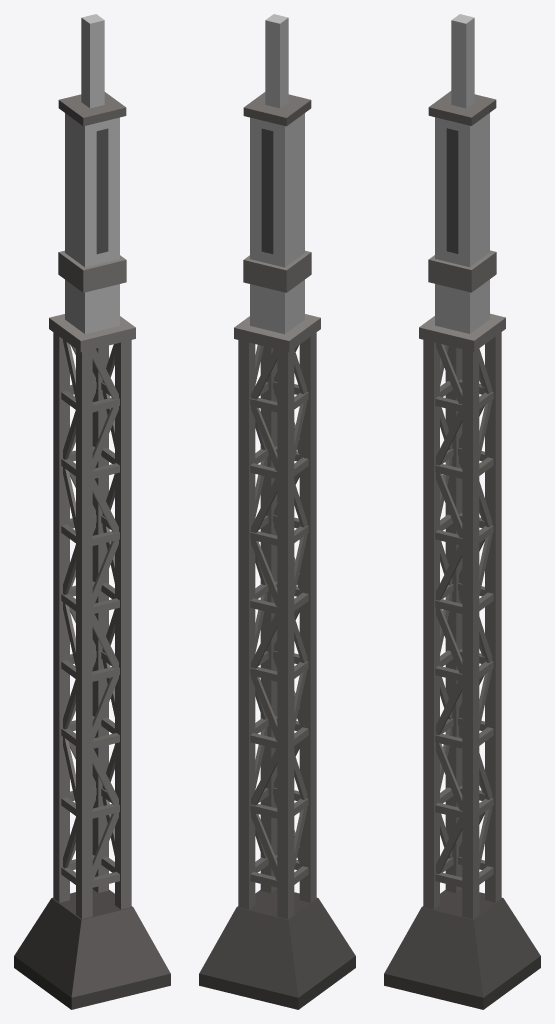
The model's file is SM_Bld_RadioTower_01.fbx.
The picture shows the model from 3 angles, left to right: view 1: azimuth 30°, elevation 25°; view 2: azimuth 150°, elevation 25°; view 3: azimuth 330°, elevation 25°; orthographic projection.
Visible parts, largest first — view 1: SM_Bld_RadioTower_01; view 2: SM_Bld_RadioTower_01; view 3: SM_Bld_RadioTower_01.
Boxes of the visible parts, <box> form: SM_Bld_RadioTower_01: <box>14,14,170,1009</box>; SM_Bld_RadioTower_01: <box>199,14,355,1009</box>; SM_Bld_RadioTower_01: <box>384,14,540,1009</box>.
Bounding box in the file's own units: 6.57 × 60.53 × 6.57.
